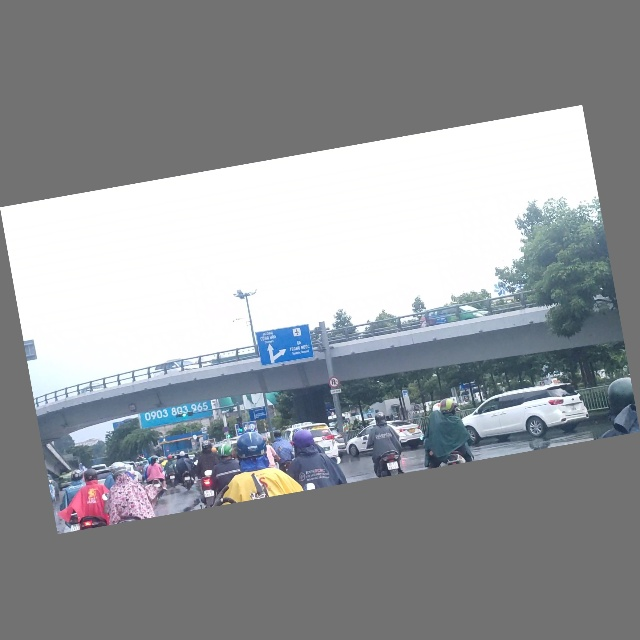P.124b1: (328, 377, 341, 390)
